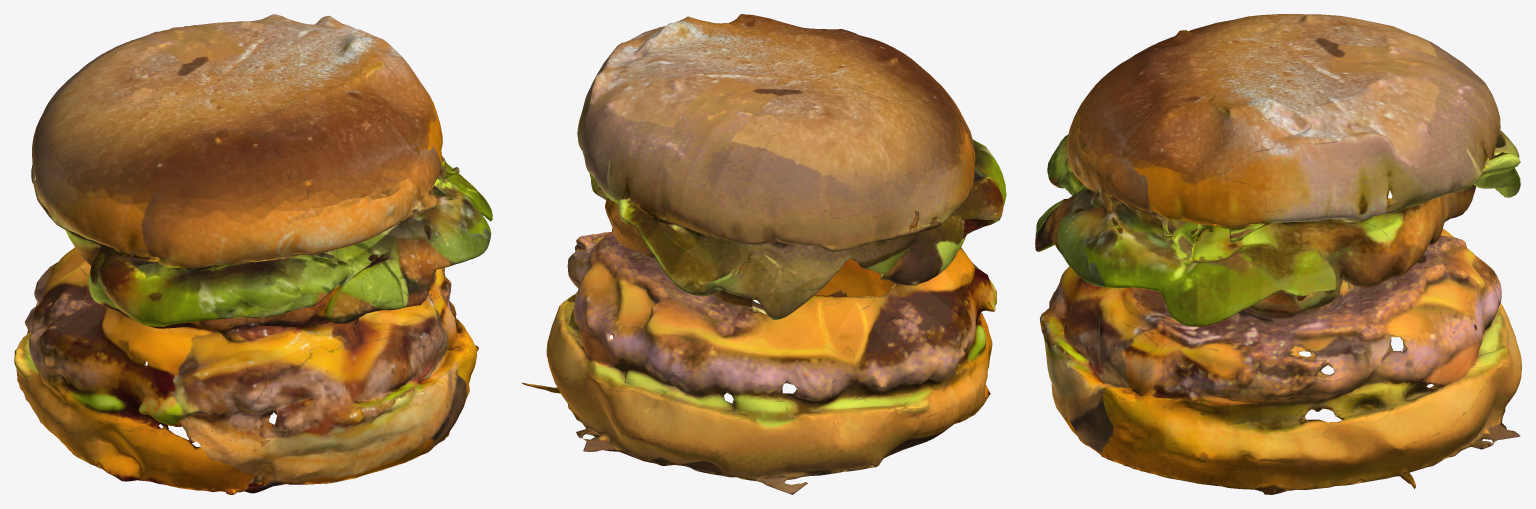
File: el-padre-burger-ia.glb
The picture shows the model from 3 angles, left to right: view 1: azimuth 30°, elevation 25°; view 2: azimuth 150°, elevation 25°; view 3: azimuth 270°, elevation 25°; orthographic projection. The views are drawn at different scales.
Parts seen in each view (by area): view 1: world; view 2: world; view 3: world.
Part boxes in pixels (x1=…): world: x1=14, y1=14, x2=492, y2=494; world: x1=522, y1=14, x2=1006, y2=494; world: x1=1035, y1=14, x2=1521, y2=494.
Bounding box in the file's own units: 0.1187 × 0.0966 × 0.12.
1 material, 1 textured.
